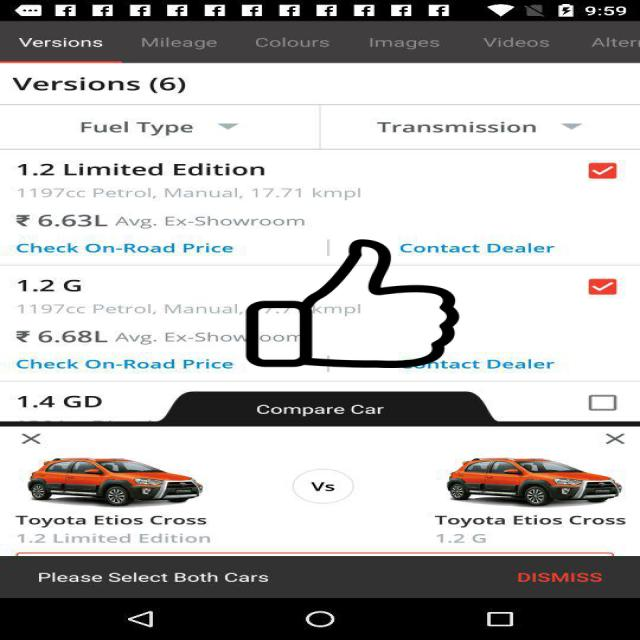privacy zuckering: (243, 239, 462, 368)
